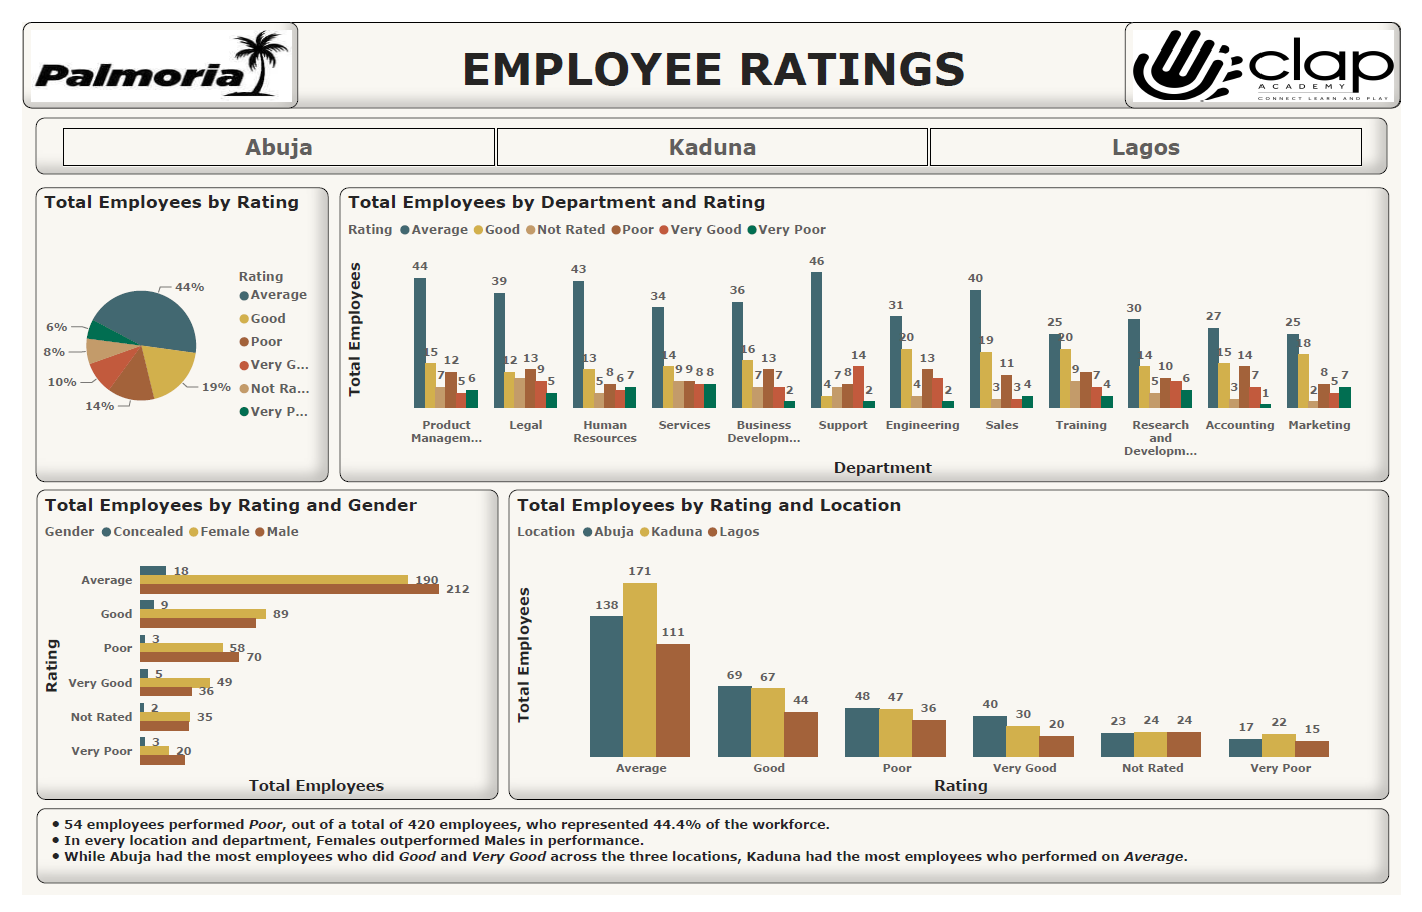

Layout of this report page (visuals, bound fields, positions):
{"tool":"powerbi","page":{"name":"Employee Ratings","canvas":[1500,950],"ordinal":3},"visuals":[{"type":"textbox","box":[0,0,1500.9,94.3],"z":0,"group":"g1"},{"type":"clusteredBarChart","fields":{"Category":["Palmoria Data.Rating"],"Y":["Palmoria Data.Total Employees"],"Series":["Palmoria Data.Gender"]},"box":[15,508.6,503.2,338.2],"z":0},{"type":"image","box":[1200.2,0,300.1,94.1],"z":1000,"group":"g1"},{"type":"clusteredColumnChart","fields":{"Y":["Palmoria Data.Total Employees"],"Category":["Palmoria Data.Rating"],"Series":["Palmoria Data.Location"]},"box":[529.1,508.6,958.6,338.2],"z":1000},{"type":"image","box":[0,0,300.1,94],"z":2000,"group":"g1"},{"type":"slicer","fields":{"Values":["Palmoria Data.Location"]},"box":[13.6,103.6,1472.7,62.7],"z":2000},{"type":"pieChart","fields":{"Category":["Palmoria Data.Rating"],"Y":["Palmoria Data.Total Employees"]},"box":[14.3,179.8,318.3,321.4],"z":3000},{"type":"clusteredColumnChart","fields":{"Category":["Palmoria Data.Department"],"Y":["Palmoria Data.Total Employees"],"Series":["Palmoria Data.Rating"]},"box":[345.3,179.8,1142.5,321.4],"z":4000},{"type":"textbox","box":[15,856.4,1472.7,81.8],"z":5000},{"type":"group","id":"g1","title":"Group 1","box":[0,0,1500.9,94.3],"z":6000}]}

Visuals, with their boxes in screenshot pixels (x1, y1, x2, y2), scaled from the page's 1500x950 canvas onto the 1422x912 screenshot:
textbox: [0,0,1421,91]
clusteredBarChart - Palmoria Data.Rating x Palmoria Data.Total Employees: [14,488,491,813]
image: [1138,0,1421,90]
clusteredColumnChart - Palmoria Data.Total Employees x Palmoria Data.Rating: [502,488,1410,813]
image: [0,0,284,90]
slicer - Palmoria Data.Location: [13,99,1409,160]
pieChart - Palmoria Data.Rating x Palmoria Data.Total Employees: [14,173,315,481]
clusteredColumnChart - Palmoria Data.Department x Palmoria Data.Total Employees: [327,173,1410,481]
textbox: [14,822,1410,901]
"Group 1" group: [0,0,1421,91]
